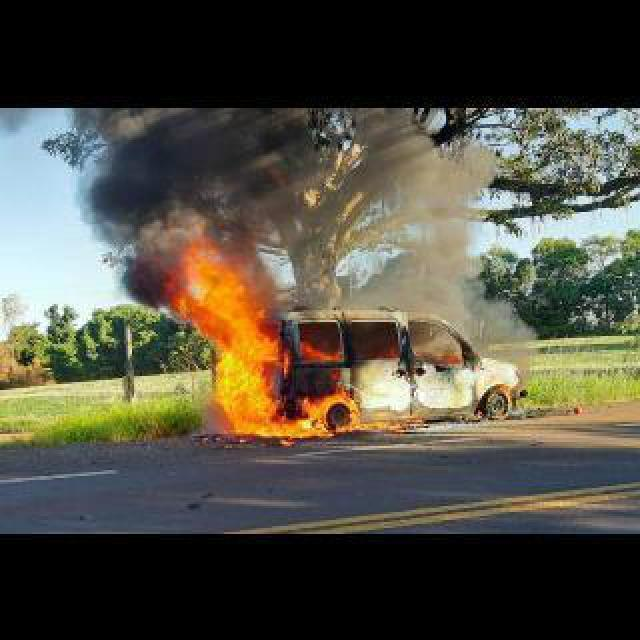Fire: (176, 236, 362, 438)
Smoke: (340, 106, 538, 368), (58, 106, 202, 304)
